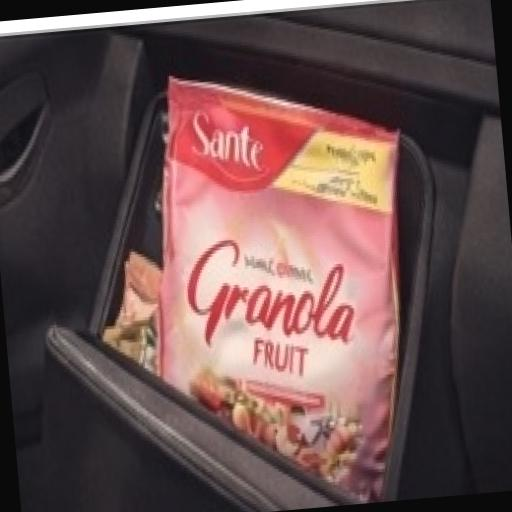granola: (110, 21, 488, 512)
